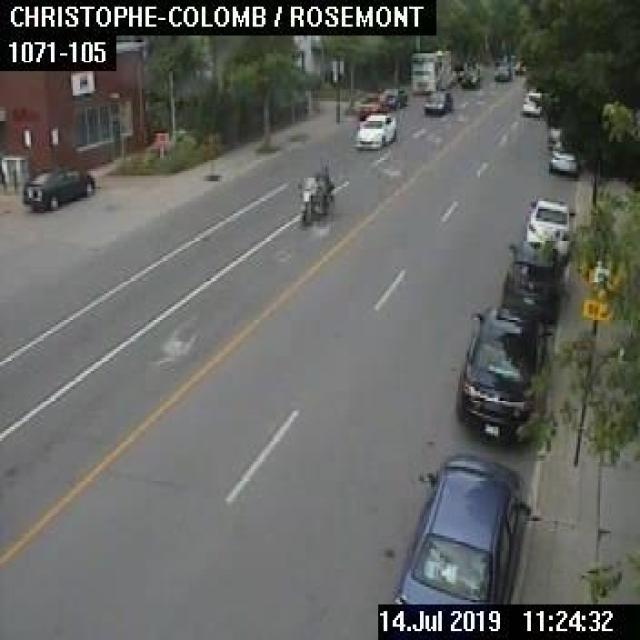vehicle: (391, 453, 531, 602), (455, 304, 551, 444), (501, 238, 566, 320), (21, 168, 93, 212), (524, 196, 574, 241), (296, 162, 332, 224), (410, 48, 450, 92), (354, 113, 394, 147), (547, 138, 576, 173), (422, 89, 452, 114), (356, 92, 387, 115), (382, 87, 406, 107), (521, 90, 540, 113), (458, 69, 479, 87), (491, 64, 510, 80), (547, 125, 566, 138)
